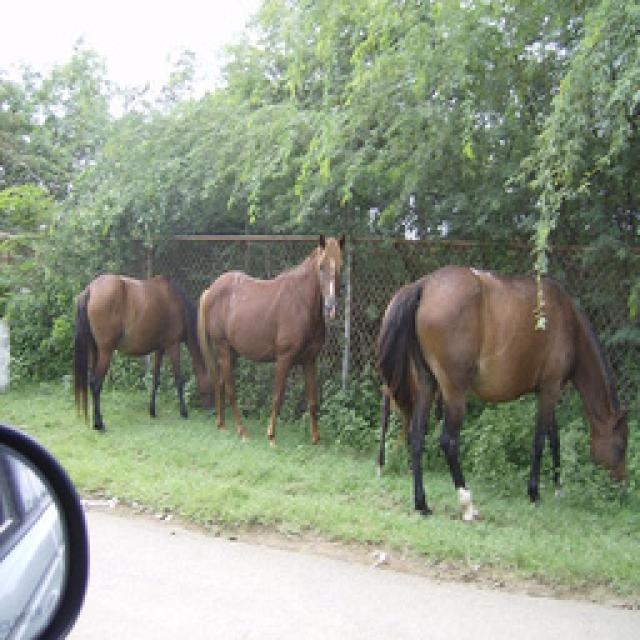Horse: (376, 266, 629, 526), (204, 230, 346, 448), (68, 270, 202, 432)
